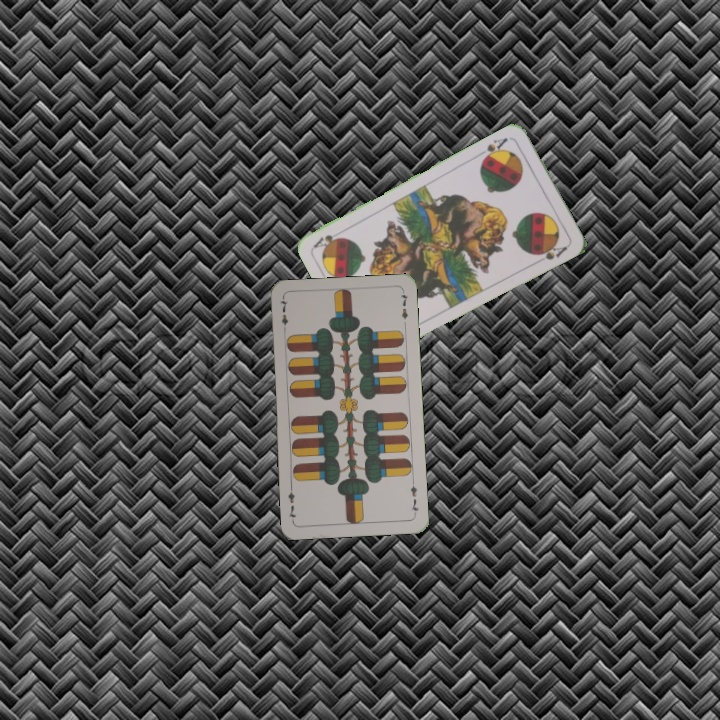E7: (406, 477, 421, 517), (276, 295, 290, 335)
SA: (475, 134, 510, 163)
